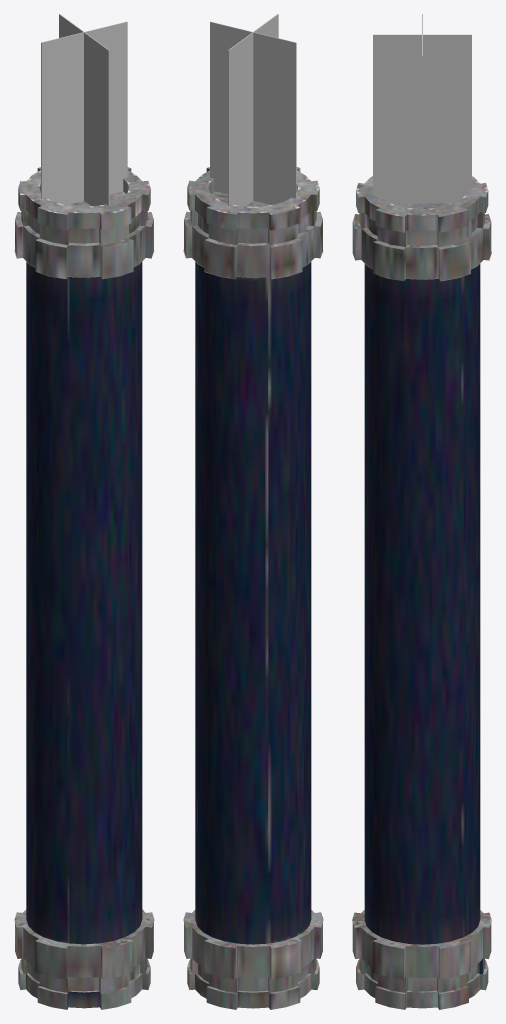
Rendered from fakel 1.fbx.
3 renders of one model, left to right at view 1: azimuth 30°, elevation 25°; view 2: azimuth 150°, elevation 25°; view 3: azimuth 270°, elevation 25°, orthographic.
Visible parts, largest first — view 1: Cylinder.003, Cube.001, Cube; view 2: Cylinder.003, Cube.001, Cube; view 3: Cylinder.003, Cube.
Part boxes in pixels (box(x1,y1,x2,y2)): Cylinder.003: box(14, 167, 154, 1009); Cube.001: box(41, 21, 127, 204); Cube: box(59, 14, 109, 206); Cylinder.003: box(183, 167, 323, 1009); Cube.001: box(210, 21, 296, 204); Cube: box(228, 14, 278, 206); Cylinder.003: box(352, 176, 491, 1009); Cube: box(373, 34, 471, 202).
Bounding box in the file's own units: 26.18 × 203 × 27.1.
